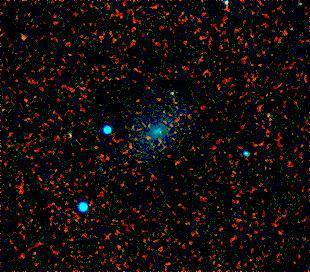star: (157, 78, 187, 108)
